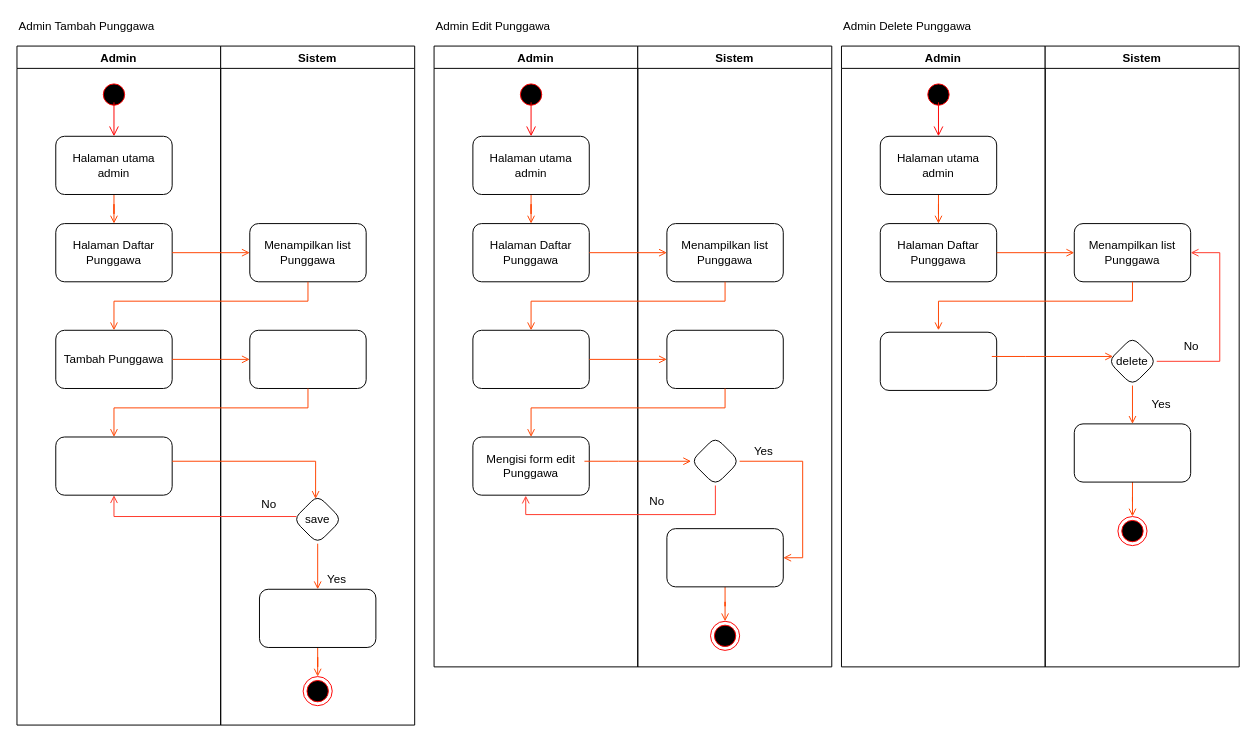
The diagram is 1256 pixels wide and 742 high, and some of its shapes have lost their labels. Here are the shapes that lost their labels. From the top down, the box of each, then its label:
(249, 329, 366, 388): Menampilkan menu form tambah Punggawa
(472, 329, 589, 388): Edit Punggawa
(666, 329, 783, 388): Menampilkan menu form edit Punggawa
(879, 331, 997, 390): Delete Punggawa
(55, 436, 172, 495): Mengisi form tambah Punggawa
(690, 436, 740, 485): update
(1073, 423, 1191, 482): Menghapus Punggawa
(666, 528, 783, 587): Menyimpan dan mengupdate
(259, 588, 376, 647): Menyimpan dan menambah
